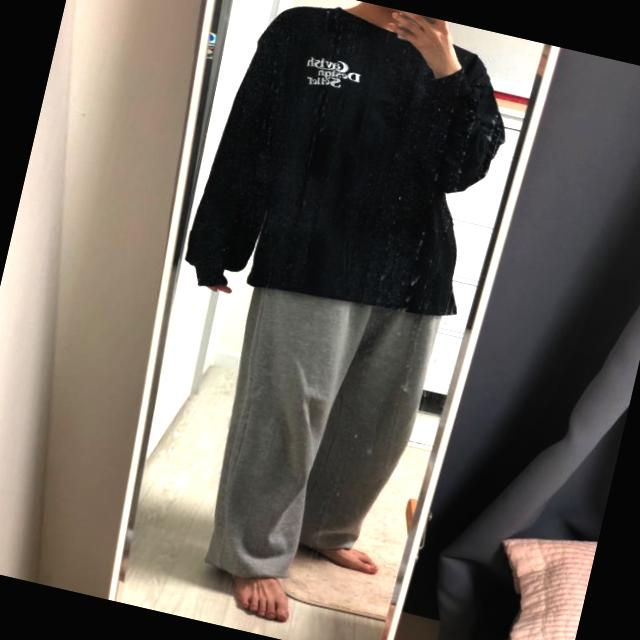longsleeve: (177, 0, 524, 344)
trainingpants: (186, 266, 441, 604)
